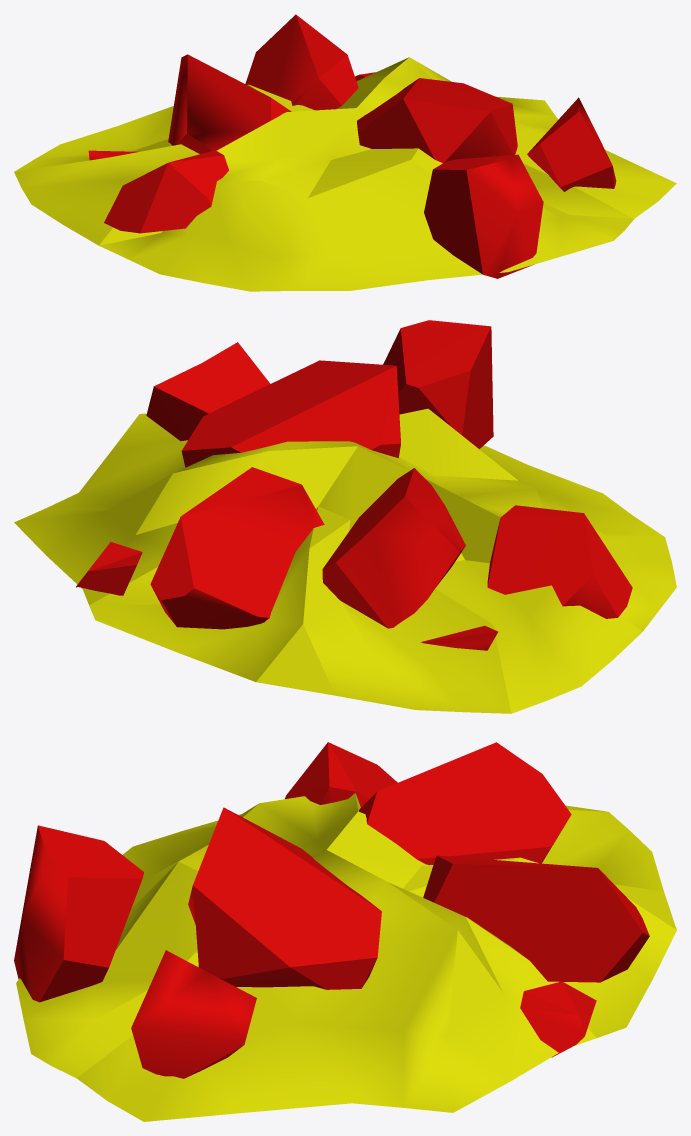
The model's file is Escombros.fbx.
The picture shows the model from 3 angles, top to bottom: view 1: azimuth 30°, elevation 25°; view 2: azimuth 150°, elevation 25°; view 3: azimuth 270°, elevation 25°; orthographic projection. The views are drawn at different scales.
Parts seen in each view (by area): view 1: Debris14; view 2: Debris14; view 3: Debris14.
Boxes of the visible parts, bbox=[...] form: Debris14: bbox=[14, 14, 676, 291]; Debris14: bbox=[14, 320, 676, 713]; Debris14: bbox=[14, 742, 676, 1121].
Bounding box in the file's own units: 610 × 147 × 529.
